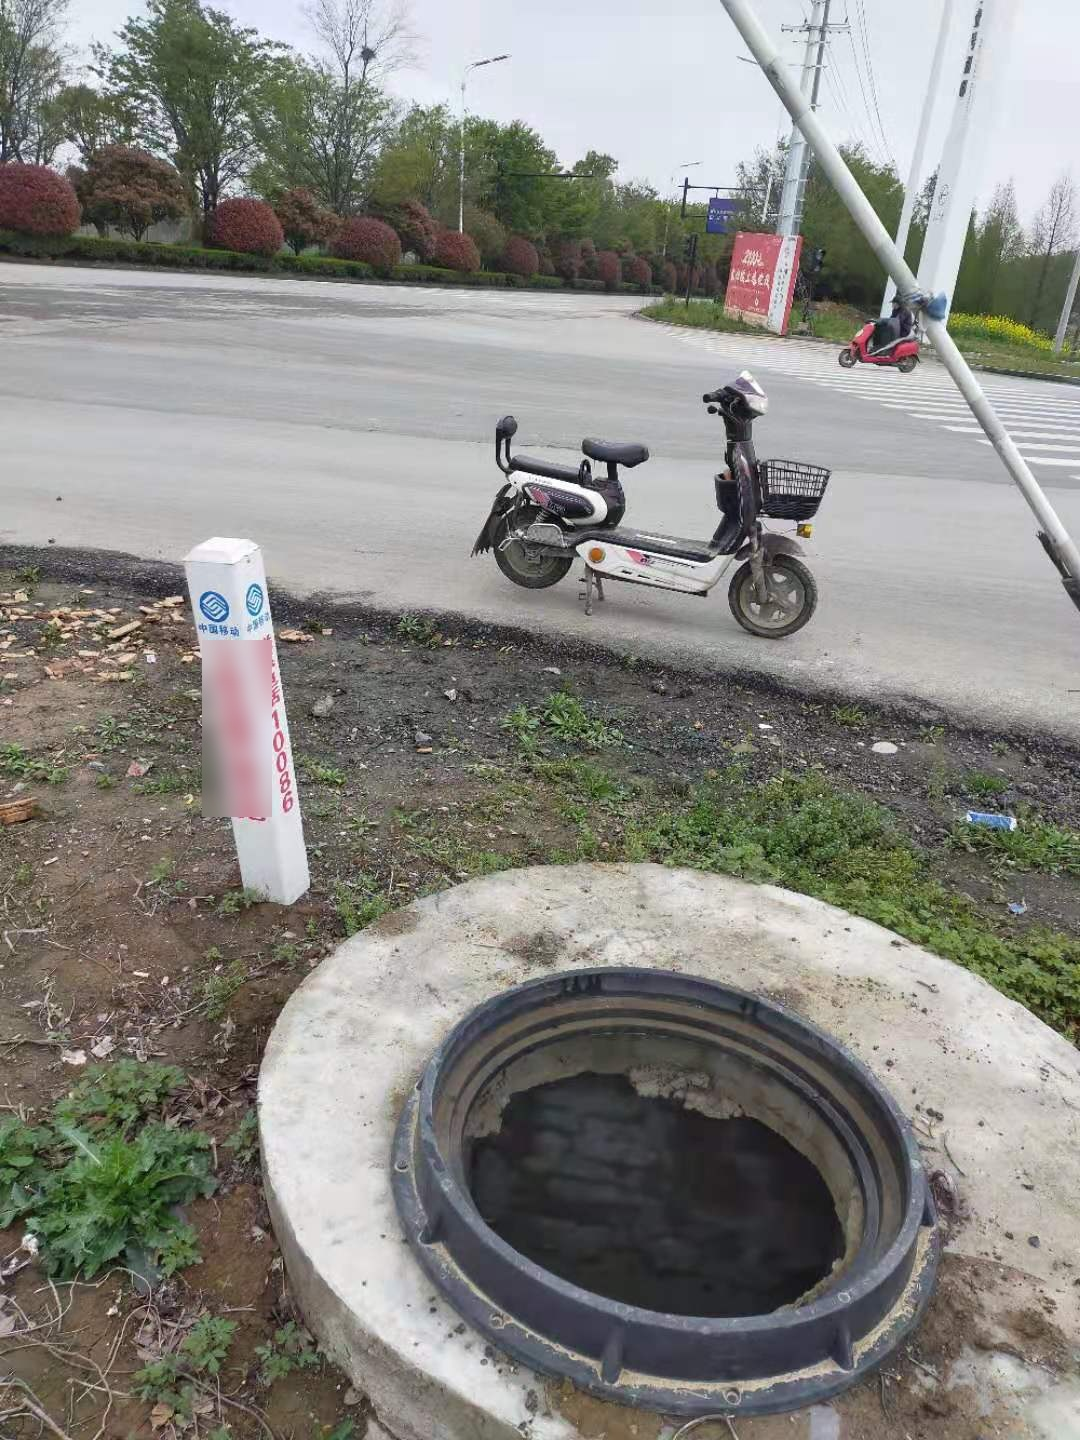lose: (386, 969, 947, 1423)
